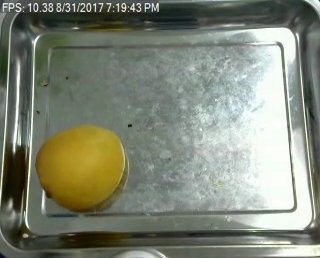Mango: (32, 122, 125, 211)
